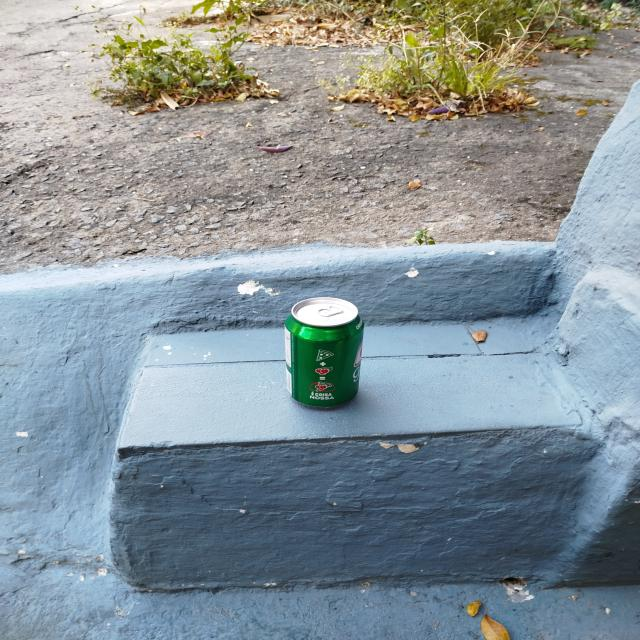Guarana: (284, 297, 364, 406)
